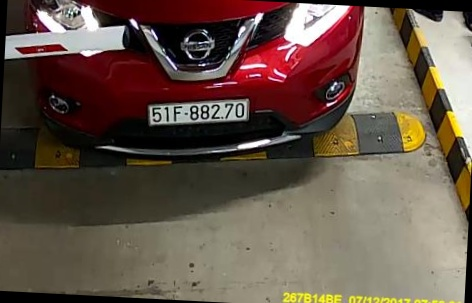plate: (145, 92, 255, 131)
